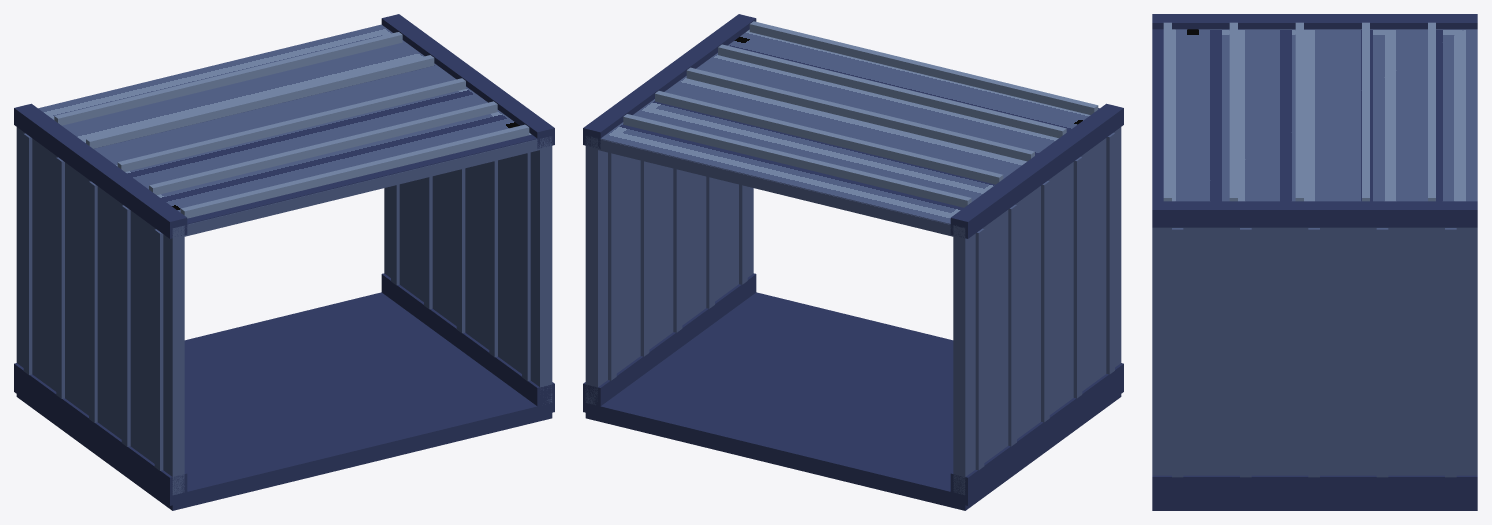
Rendered from CMU3DContainerVerticalMiddleCloud.glb.
3 renders of one model, left to right at view 1: azimuth 30°, elevation 25°; view 2: azimuth 150°, elevation 25°; view 3: azimuth 270°, elevation 25°, orthographic. The views are drawn at different scales.
Visible parts, largest first — view 1: long corrugated shell side (×2), continuous container floor, original middle corrugated roof, raised physical side corrugation (×10), long upper side rail (×2), lower side skid (×2), steel roof sheet, raised transverse roof corrugation 0, raised transverse roof corrugation 3, raised transverse roof corrugation 2, raised transverse roof corrugation 4, raised transverse roof corrugation 1; view 2: long corrugated shell side (×2), continuous container floor, original middle corrugated roof, raised physical side corrugation (×10), long upper side rail (×2), lower side skid (×2), steel roof sheet, raised transverse roof corrugation 0, raised transverse roof corrugation 1, raised transverse roof corrugation 2, raised transverse roof corrugation 4, raised transverse roof corrugation 3; view 3: long corrugated shell side, original middle corrugated roof, raised physical side corrugation (×5), long upper side rail (×2), lower side skid, continuous container floor, raised transverse roof corrugation 0, raised transverse roof corrugation 1, raised transverse roof corrugation 2, raised transverse roof corrugation 3, raised transverse roof corrugation 4.
Part boxes in pixels (box(x1,y1,x2,y2)): long corrugated shell side (×2): box(16, 127, 552, 495); continuous container floor: box(16, 292, 552, 510); original middle corrugated roof: box(38, 24, 550, 225); raised physical side corrugation (×10): box(23, 133, 530, 470); long upper side rail (×2): box(14, 14, 554, 238); lower side skid (×2): box(14, 273, 554, 505); steel roof sheet: box(184, 139, 539, 236); raised transverse roof corrugation 0: box(180, 124, 529, 218); raised transverse roof corrugation 3: box(86, 55, 434, 148); raised transverse roof corrugation 2: box(117, 78, 465, 171); raised transverse roof corrugation 4: box(54, 32, 402, 125); raised transverse roof corrugation 1: box(149, 101, 497, 194); long corrugated shell side (×2): box(585, 127, 1121, 495); continuous container floor: box(585, 292, 1121, 510); original middle corrugated roof: box(591, 29, 1099, 227); raised physical side corrugation (×10): box(608, 133, 1114, 470); long upper side rail (×2): box(583, 14, 1123, 238); lower side skid (×2): box(583, 273, 1123, 505); steel roof sheet: box(598, 139, 953, 236); raised transverse roof corrugation 0: box(749, 21, 1098, 114); raised transverse roof corrugation 1: box(718, 44, 1066, 138); raised transverse roof corrugation 2: box(686, 67, 1034, 161); raised transverse roof corrugation 4: box(623, 114, 971, 207); raised transverse roof corrugation 3: box(655, 91, 1003, 184); long corrugated shell side: box(1152, 227, 1477, 475); original middle corrugated roof: box(1152, 29, 1477, 201); raised physical side corrugation (×5): box(1172, 228, 1456, 477); long upper side rail (×2): box(1152, 14, 1477, 227); lower side skid: box(1152, 475, 1477, 506); continuous container floor: box(1152, 506, 1477, 510); raised transverse roof corrugation 0: box(1163, 22, 1171, 201); raised transverse roof corrugation 1: box(1229, 22, 1237, 201); raised transverse roof corrugation 2: box(1295, 22, 1303, 201); raised transverse roof corrugation 3: box(1362, 22, 1369, 201); raised transverse roof corrugation 4: box(1428, 22, 1435, 201).
Size of the model in its own units: 1.43 by 1.03 by 1.
4 materials, 1 textured.
